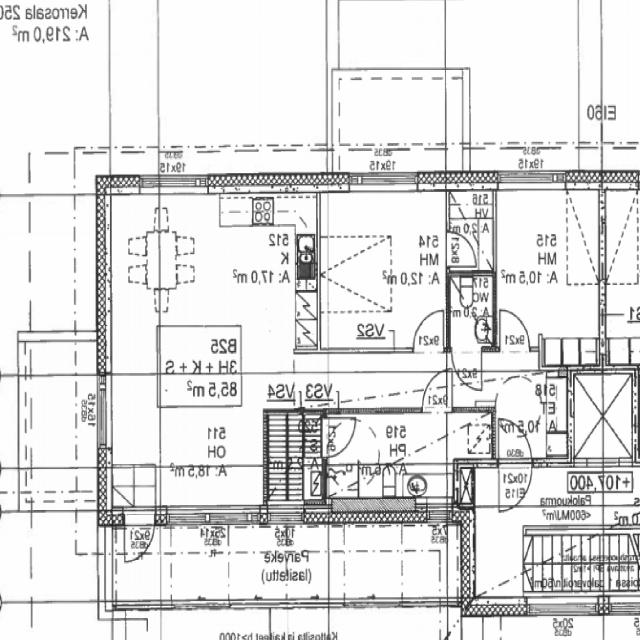door: (124, 506, 154, 564), (499, 458, 532, 509), (499, 416, 532, 466), (451, 347, 482, 393), (322, 418, 357, 458), (422, 368, 452, 413), (414, 308, 443, 353), (500, 309, 529, 353), (446, 232, 476, 266)
